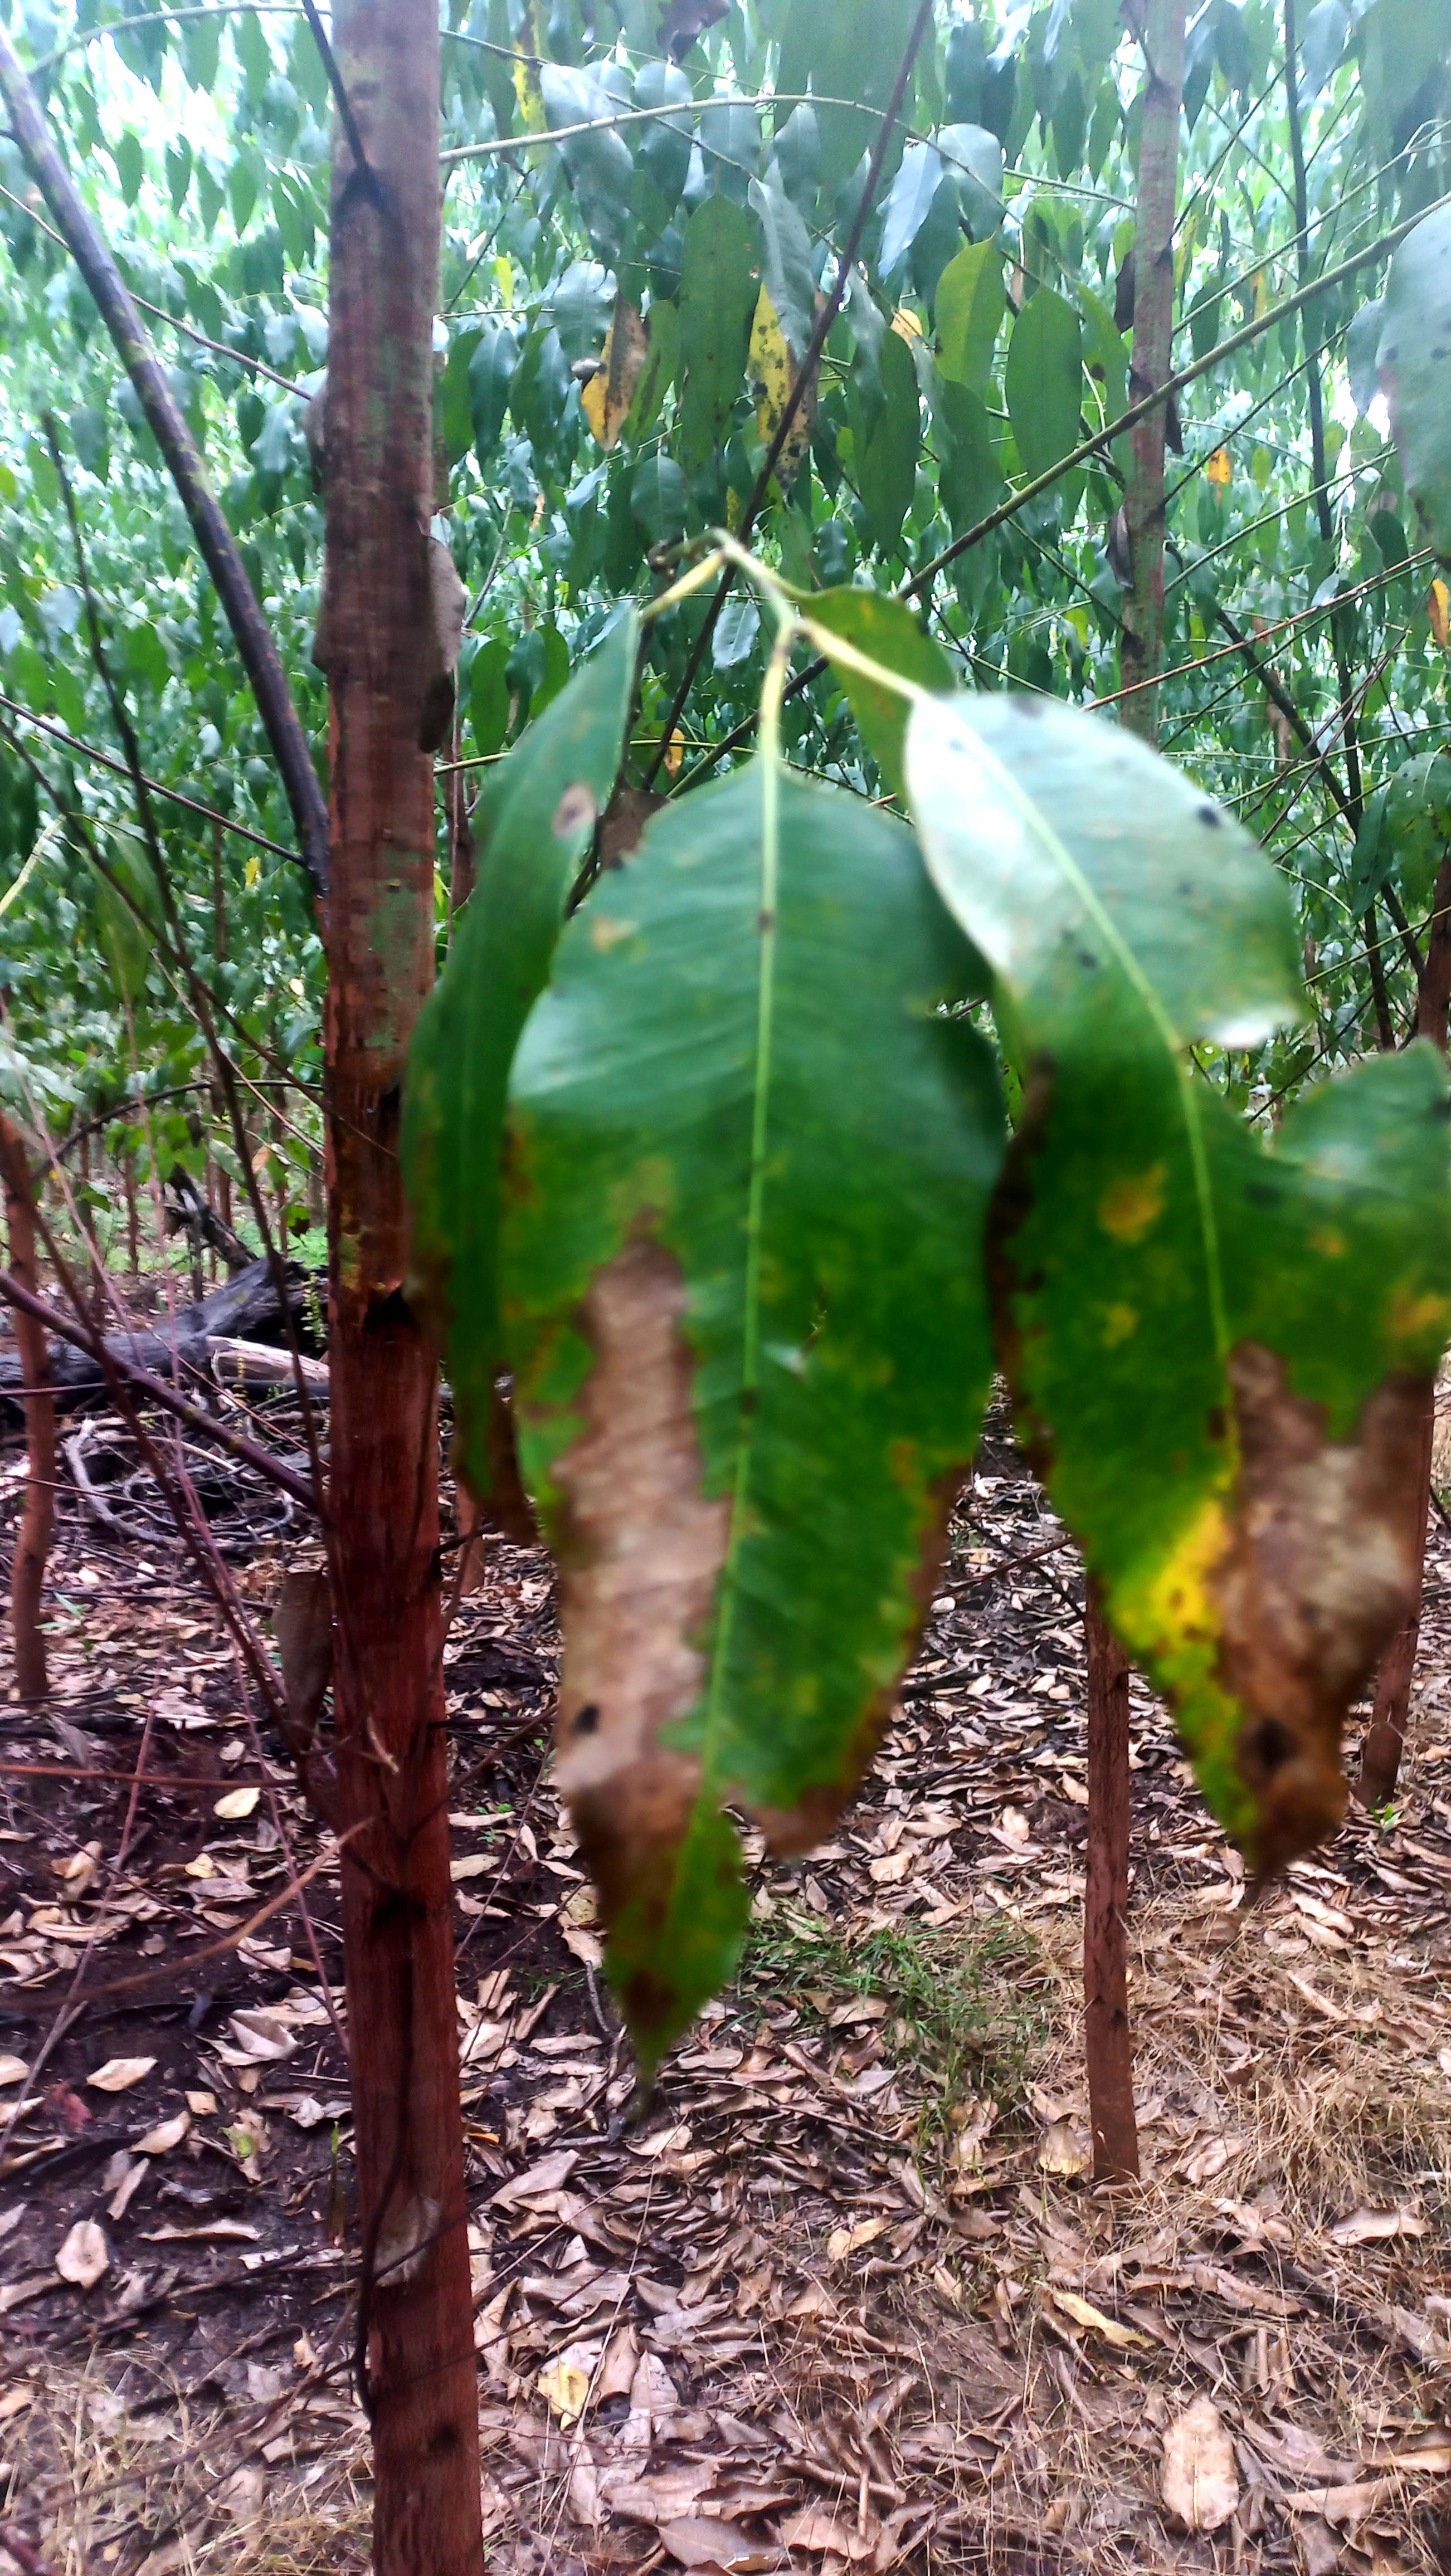Cylindrocladium: (1127, 1304, 1451, 1865), (503, 1260, 764, 1932), (964, 1060, 1056, 1493), (750, 269, 809, 524)
